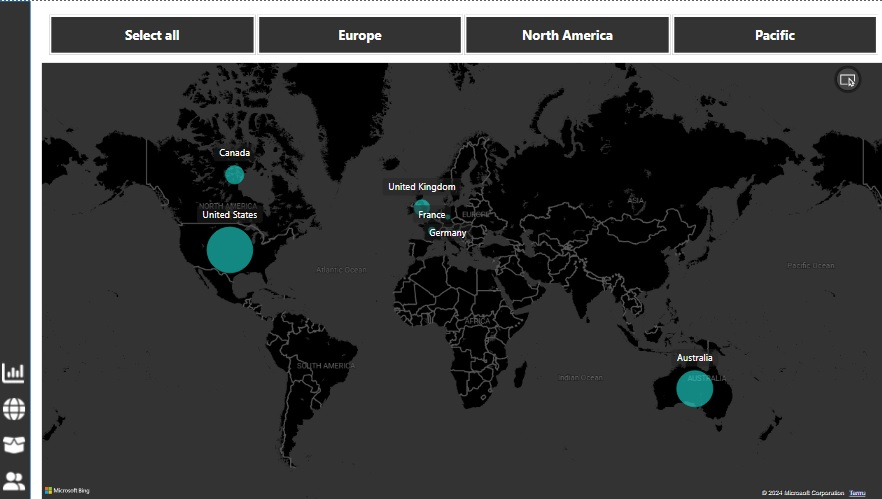

The dashboard page shown, as its layout file describes it:
{"tool":"powerbi","page":{"name":"Map","canvas":[1280,720],"ordinal":1},"visuals":[{"type":"shape","box":[0,0,45,720],"z":0},{"type":"actionButton","box":[0,511.2,44.6,40.3],"z":0,"group":"g1"},{"type":"actionButton","box":[1.4,563,44.6,40.3],"z":1000,"group":"g1"},{"type":"map","fields":{"Category":["Territory Lookup.Country"],"Size":["Measure Table.Total Orders"]},"box":[56.2,83.5,1212.5,636.5],"z":1000},{"type":"slicer","fields":{"Values":["Territory Lookup.Continent"]},"box":[46.1,13,1234.1,70.6],"z":2000},{"type":"actionButton","box":[1.4,613.4,44.6,40.3],"z":2000,"group":"g1"},{"type":"actionButton","box":[1.4,665.3,44.6,40.3],"z":3000,"group":"g1"},{"type":"group","id":"g1","title":"Navigation Buttons","box":[0,511.2,46.1,194.4],"z":3000}]}

Visuals, with their boxes on the page's 1280x720 design canvas (x1, y1, x2, y2). These are canvas units, not pixel positions in the 882x499 screenshot, which may show the page scaled, cropped or inside an application window:
shape: box(0, 0, 45, 720)
actionButton: box(0, 511, 45, 552)
actionButton: box(1, 563, 46, 603)
map - Territory Lookup.Country x Measure Table.Total Orders: box(56, 84, 1269, 720)
slicer - Territory Lookup.Continent: box(46, 13, 1280, 84)
actionButton: box(1, 613, 46, 654)
actionButton: box(1, 665, 46, 706)
"Navigation Buttons" group: box(0, 511, 46, 706)
